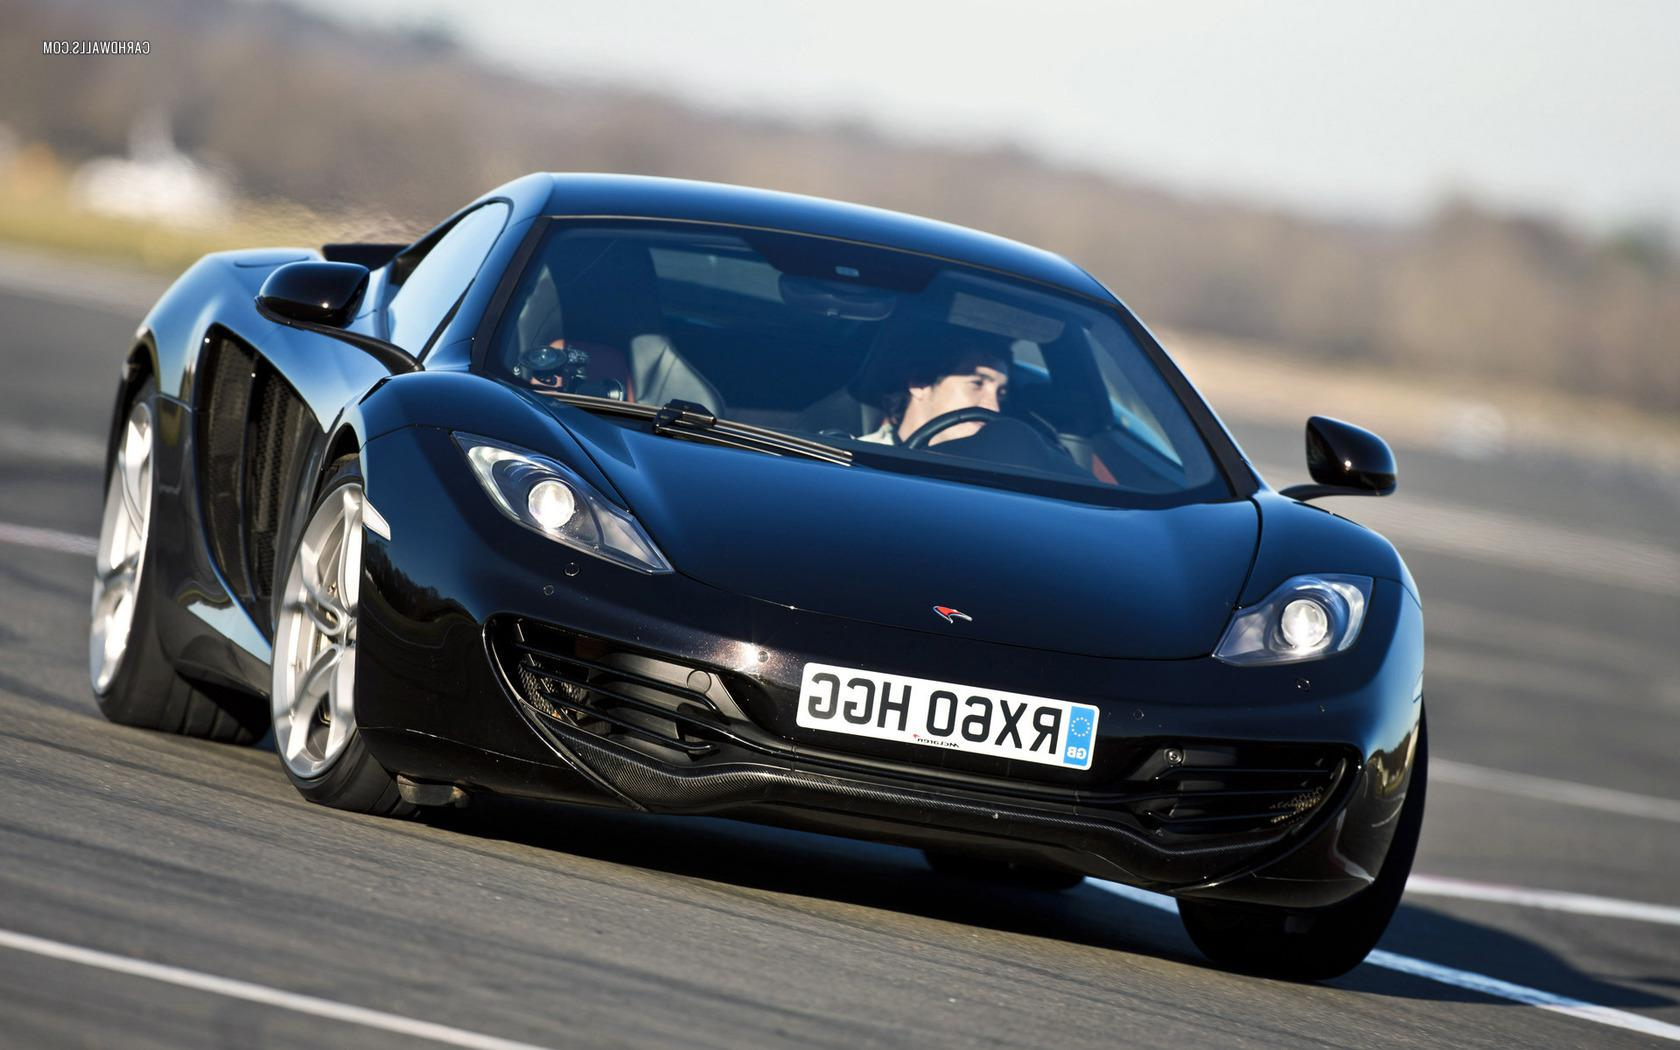Car: (31, 158, 1523, 1000)
